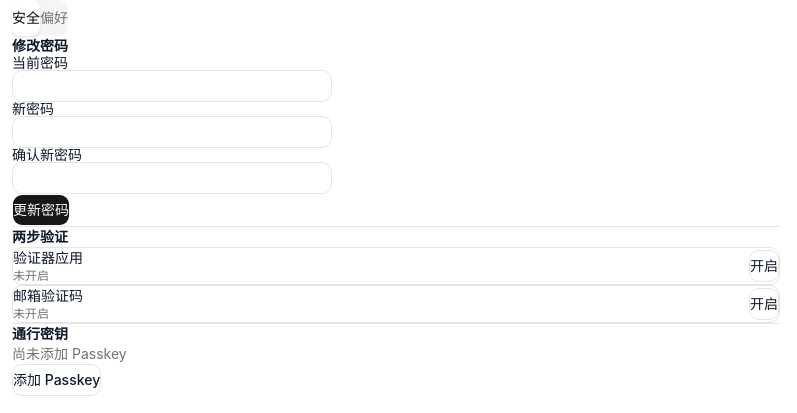
设置页 › 偏好设置保存失败时展示错误提示且语言不生效
What coordinates should you click on to do the following:
click the tab "偏好"
I would click on:
 (54, 18)
Its box is x1=40 y1=9 x2=68 y2=26.
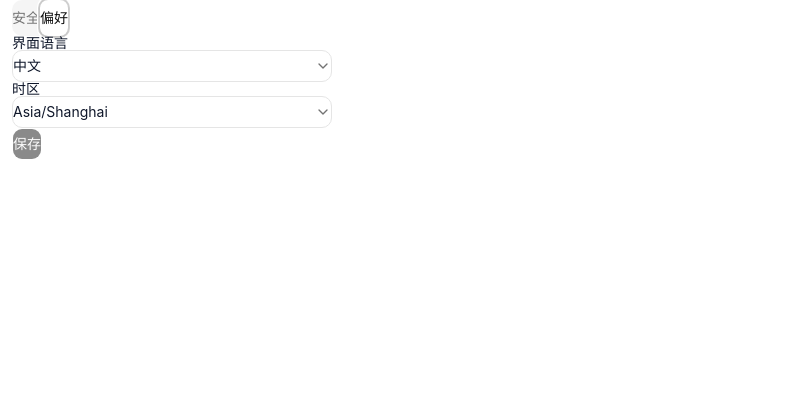
What coordinates should you click on to do the following:
click the dropdown named "界面语言"
I would click on:
 (27, 66)
Its box is x1=12 y1=50 x2=332 y2=82.
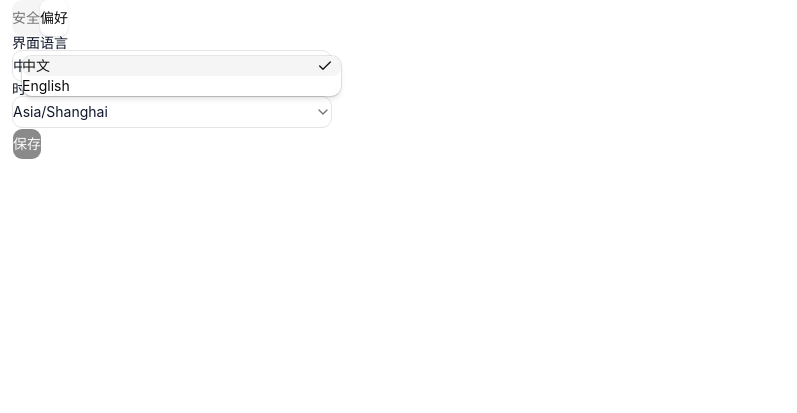
What coordinates should you click on to do the following:
click the option "English"
I would click on:
 (46, 86)
Its box is x1=22 y1=77 x2=70 y2=94.
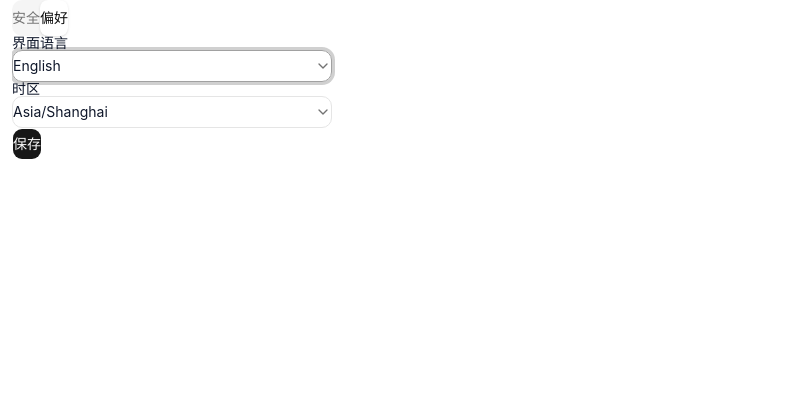
What coordinates should you click on to do the following:
click the button "保存"
I would click on:
 (27, 144)
Its box is x1=12 y1=128 x2=42 y2=160.
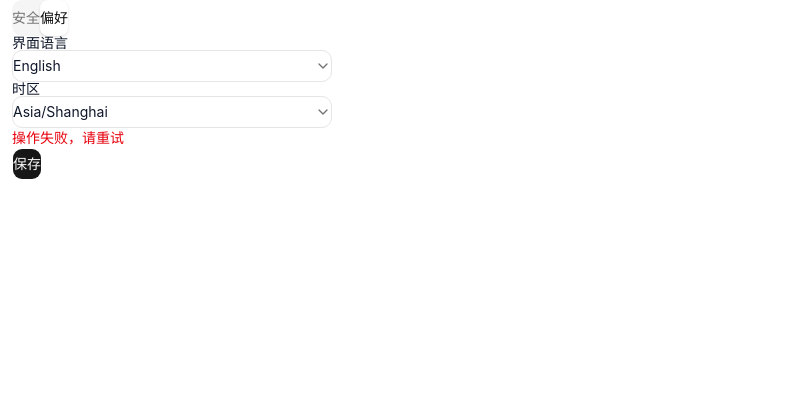
Now the message "操作失败，请重试" is shown, box x1=12 y1=129 x2=124 y2=146
